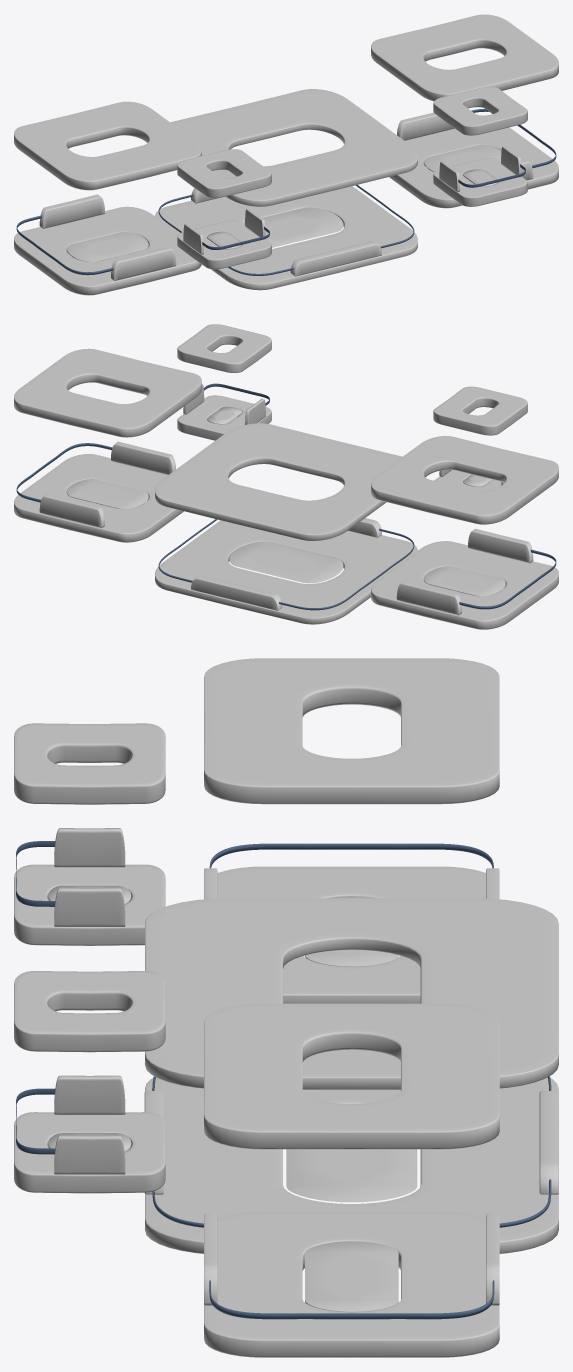
File: Environment.fbx
3 views of the same model, one above another, from view 1: azimuth 30°, elevation 25°; view 2: azimuth 150°, elevation 25°; view 3: azimuth 270°, elevation 25° (orthographic). The views are drawn at different scales.
Visible parts, largest first — view 1: Roof.001, Roof.003, Floor.001, Roof.004, Floor.002, Floor.003, Roof.006, Roof.005, MainWall.001, Floor.005, Floor.004, Platform (+10 smaller); view 2: Roof.001, Floor.001, Roof.004, Roof.003, Floor.002, Floor.003, Roof.005, Roof.006, Platform, MainWall.001, MainWall.002, Floor.005 (+9 smaller); view 3: Roof.001, Roof.003, Roof.004, Floor.003, Floor.001, Floor.002, Roof.005, Roof.006, Floor.005, Floor.004, Platform, Platform.003 (+8 smaller).
Boxes of the visible parts, x1,y1,x2,y2 form: Roof.001: (170,89,417,206); Roof.003: (14,101,201,190); Floor.001: (155,186,417,290); Roof.004: (371,14,558,101); Floor.002: (14,206,201,295); Floor.003: (389,127,558,208); Roof.006: (433,86,527,135); Roof.005: (177,149,271,197); MainWall.001: (39,194,176,281); Floor.005: (433,158,527,206); Floor.004: (177,220,271,269); Platform: (243,207,343,247); Roof.001: (155,423,402,540); Floor.001: (155,520,417,624); Roof.004: (14,348,201,437); Roof.003: (371,436,558,524); Floor.002: (371,541,558,629); Floor.003: (14,454,183,542); Roof.005: (433,386,527,435); Roof.006: (177,324,271,372); Platform: (229,541,343,583); MainWall.001: (396,528,533,615); MainWall.002: (39,441,175,528); Floor.005: (177,395,271,440); Roof.001: (144,898,558,1089); Roof.003: (204,658,499,804); Roof.004: (204,1003,499,1149); Floor.003: (204,1211,499,1357); Floor.001: (144,1077,558,1253); Floor.002: (217,866,485,1003); Roof.005: (14,723,165,804); Roof.006: (14,971,165,1052); Floor.005: (14,1112,165,1193); Floor.004: (14,864,165,945); Platform: (286,1149,417,1202); Platform.003: (305,1241,398,1312).
Size of the model in its own units: 3634 by 1768 by 1033.
